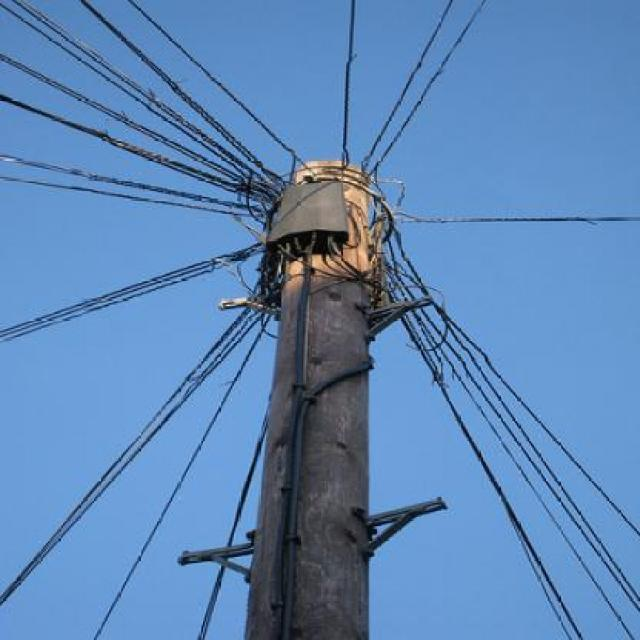pole: (174, 117, 438, 640)
